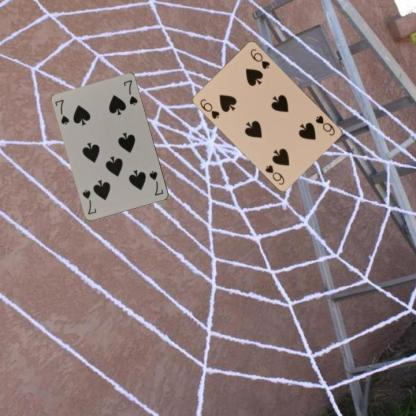6s: (313, 113, 336, 137), (198, 96, 221, 120)
7s: (146, 168, 164, 197), (52, 97, 70, 126)
